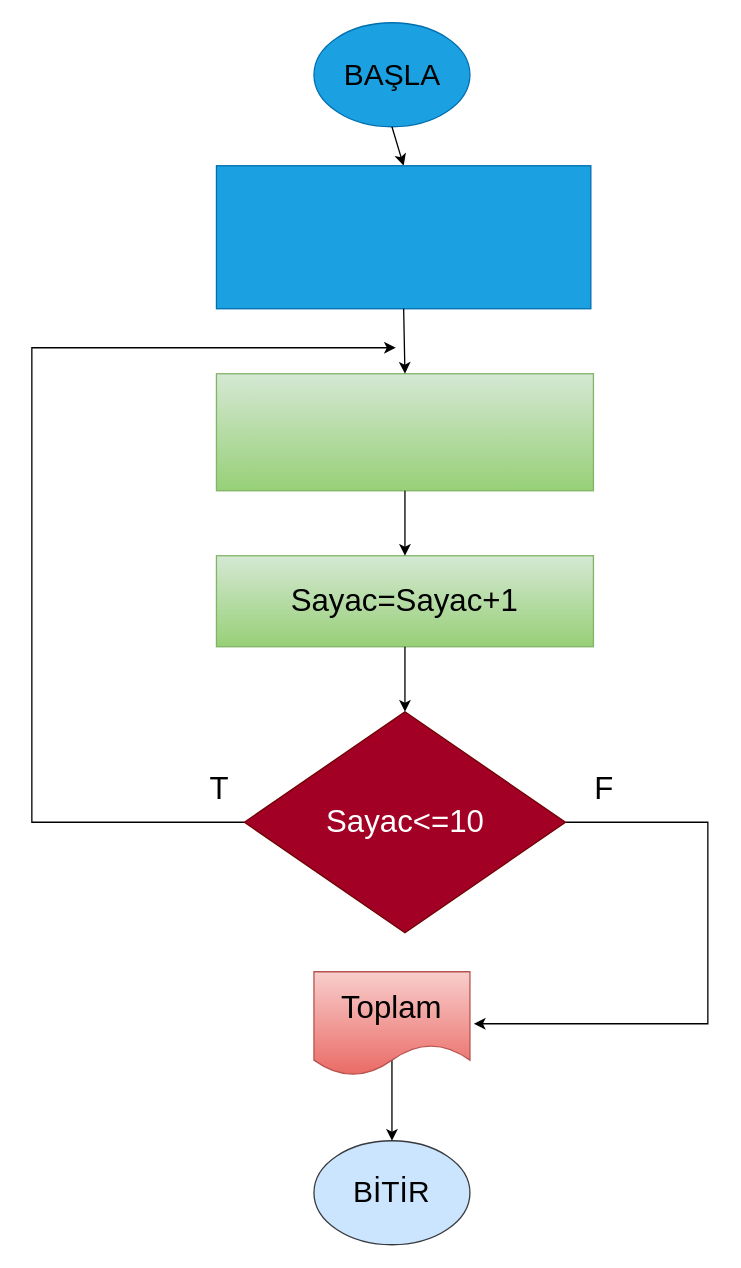
Some shapes in this 741 by 1268 pixel diagram are drawn without their labels. Each missing label, with the centre of its shape:
Sayac=1 Toplam=0: pixel 403 236
Toplam=Toplam+Sayac: pixel 404 431
